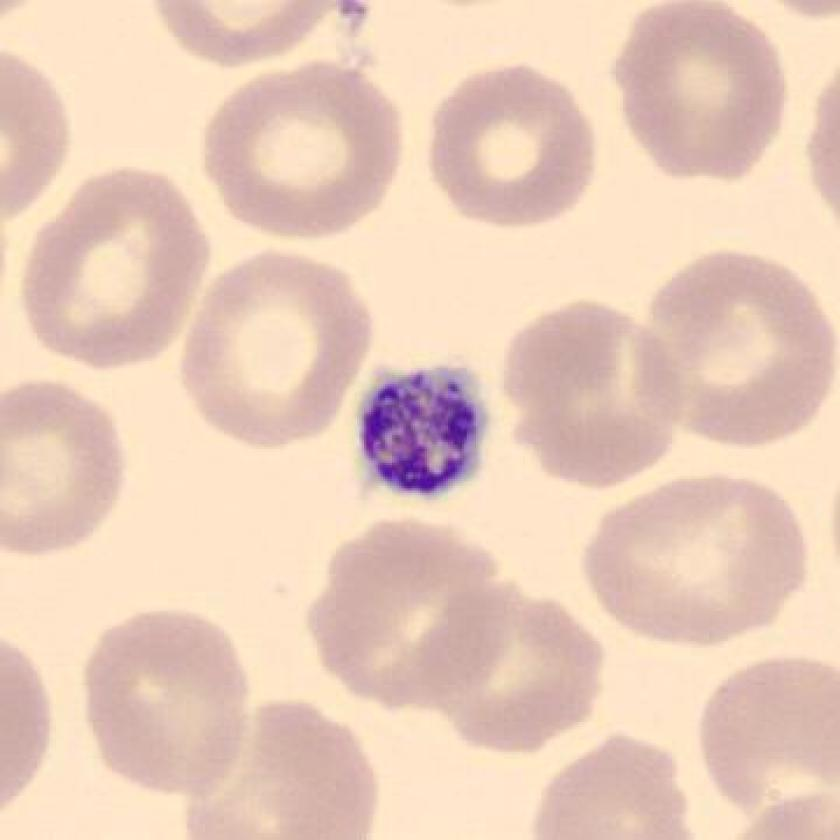platelets: (346, 348, 510, 513)
